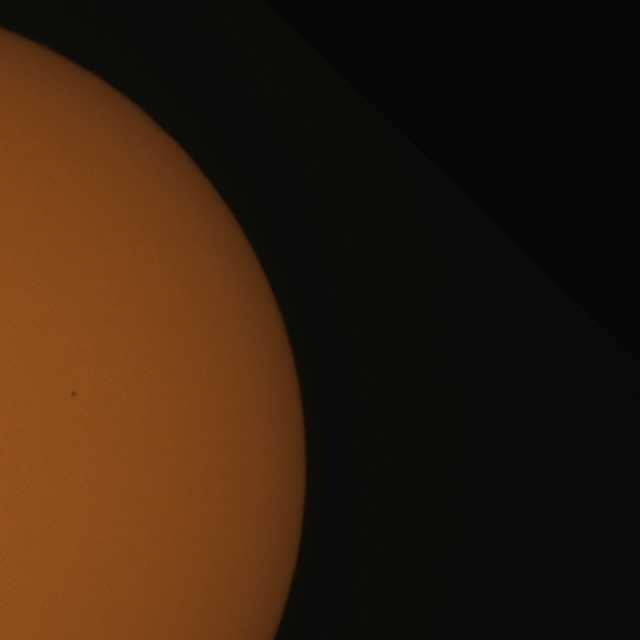sunspot: (69, 389, 78, 399)
